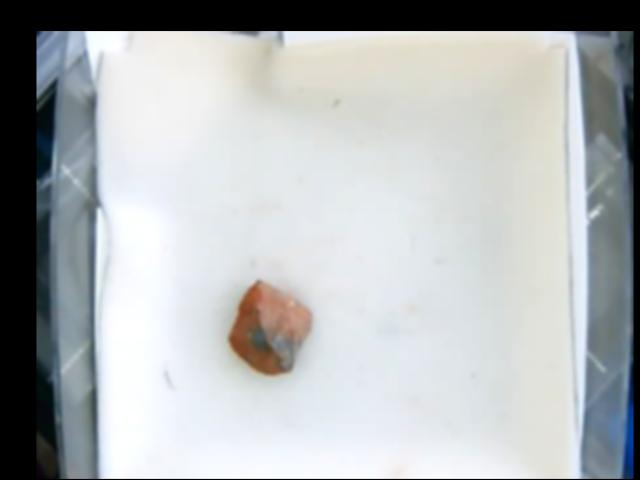Brisk: (226, 278, 311, 375)
